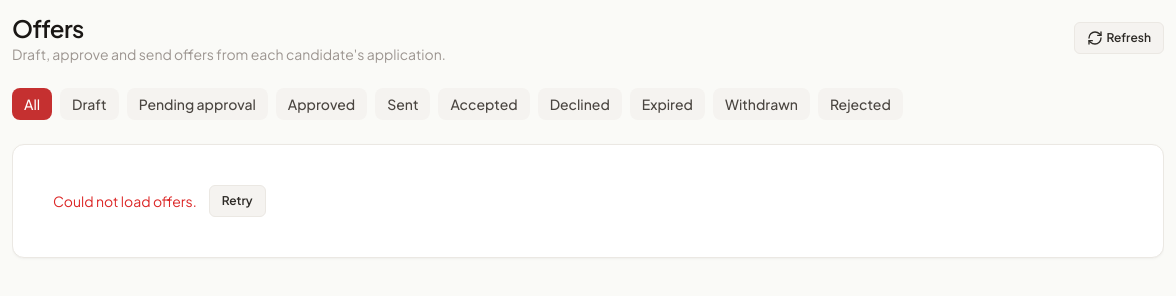
Scenario: OffersPage › shows an error state with retry
The image size is (1176, 296).
Click the button "Retry".
click(237, 201)  # box [209, 185, 266, 217]
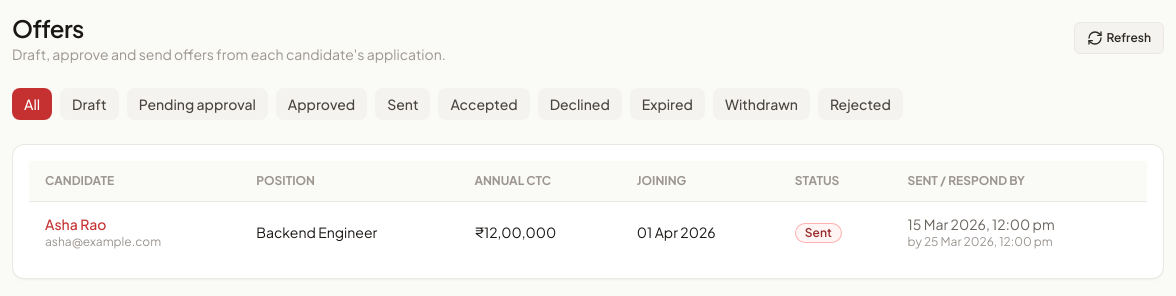
Now the link "Asha Rao" is shown, box [45, 215, 106, 233]
